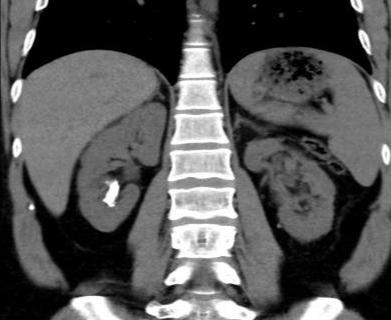Tas_Var: (102, 178, 120, 206), (106, 202, 115, 207), (103, 180, 109, 183)
